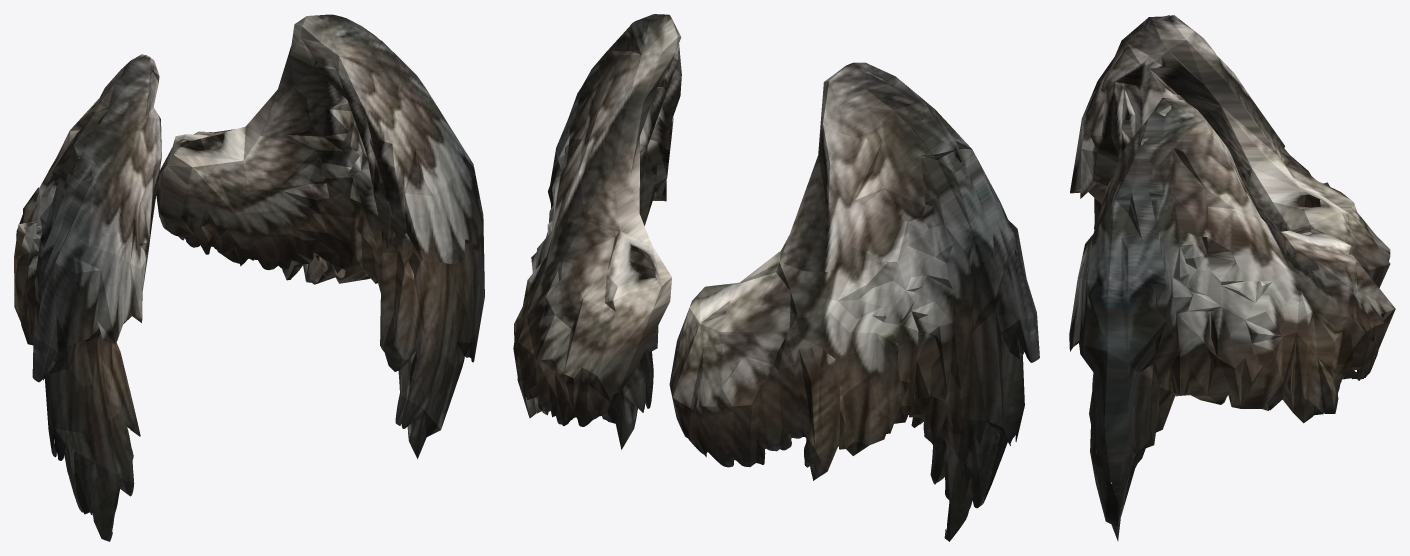
The model's file is griffinwings-lite.glb.
The picture shows the model from 3 angles, left to right: view 1: azimuth 30°, elevation 25°; view 2: azimuth 150°, elevation 25°; view 3: azimuth 270°, elevation 25°; orthographic projection. The views are drawn at different scales.
Parts seen in each view (by area): view 1: geometry_0; view 2: geometry_0; view 3: geometry_0.
Part boxes in pixels (x1=…): geometry_0: x1=14, y1=14, x2=484, y2=541; geometry_0: x1=513, y1=14, x2=1039, y2=541; geometry_0: x1=1069, y1=15, x2=1395, y2=540.
Bounding box in the file's own units: 0.9579 × 0.9182 × 0.6485.
1 material, 1 textured.
